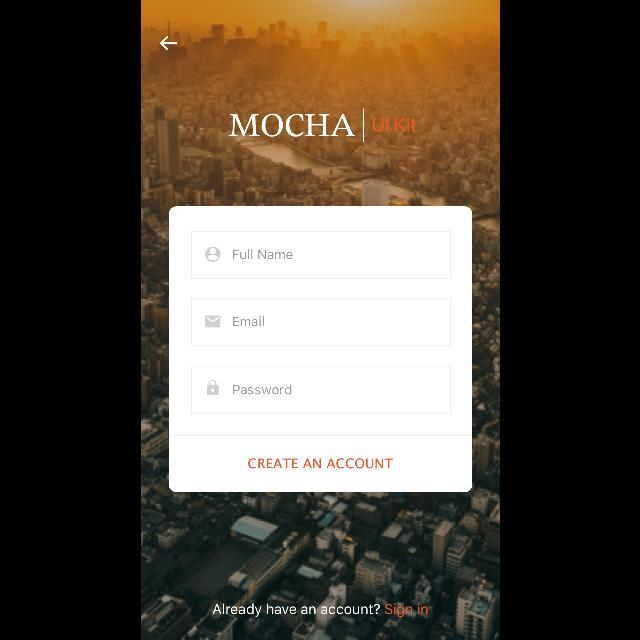backgroundimage: (140, 1, 500, 640)
icon: (204, 246, 220, 262), (160, 36, 177, 50), (206, 380, 218, 396), (204, 316, 220, 328)
input: (190, 366, 452, 414), (190, 231, 450, 279), (190, 299, 450, 347)
panel: (168, 206, 472, 492)
text: (212, 603, 428, 617), (228, 114, 354, 136), (372, 118, 416, 132), (232, 250, 292, 260), (233, 385, 291, 395), (232, 316, 264, 326)
textbutton: (168, 434, 472, 492)
